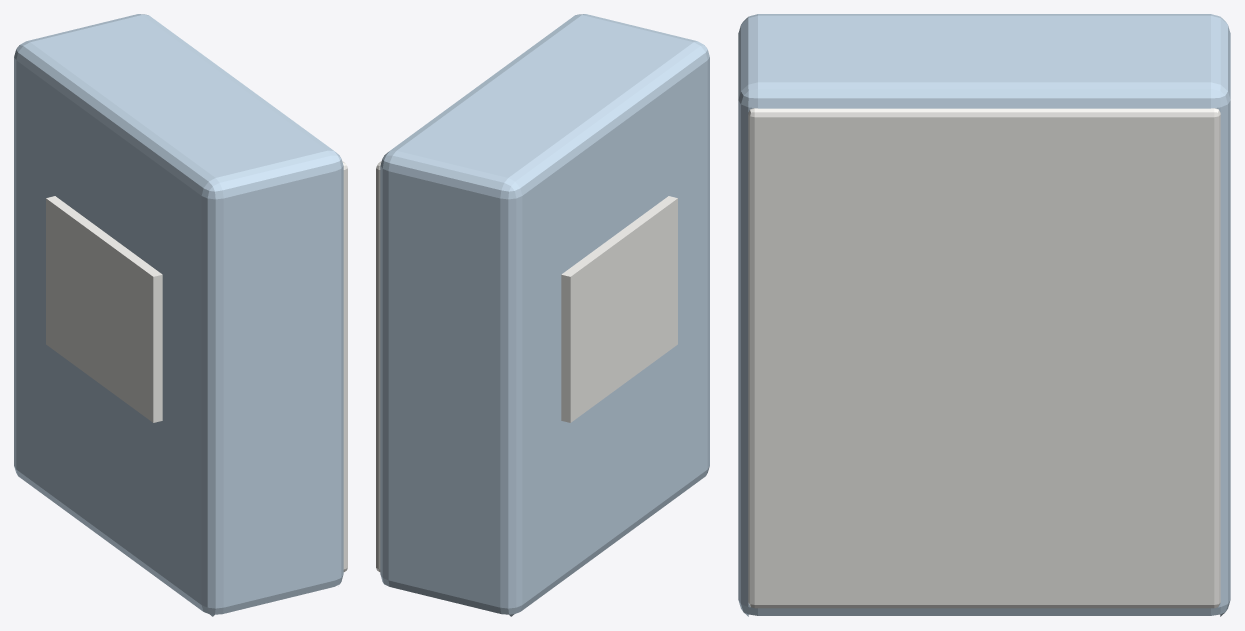
The model's file is binder.glb.
3 renders of one model, left to right at view 1: azimuth 30°, elevation 25°; view 2: azimuth 150°, elevation 25°; view 3: azimuth 270°, elevation 25°, orthographic. The views are drawn at different scales.
Visible parts, largest first — view 1: binder_sky, binder_paper; view 2: binder_sky, binder_paper; view 3: binder_paper, binder_sky.
Boxes of the visible parts, x1=… form: binder_sky: x1=14, y1=14, x2=343, y2=616; binder_paper: x1=46, y1=161, x2=347, y2=571; binder_sky: x1=380, y1=14, x2=709, y2=616; binder_paper: x1=376, y1=161, x2=677, y2=571; binder_paper: x1=748, y1=108, x2=1220, y2=608; binder_sky: x1=738, y1=14, x2=1230, y2=616.
Bounding box in the file's own units: 0.33 × 0.8921 × 0.75.
